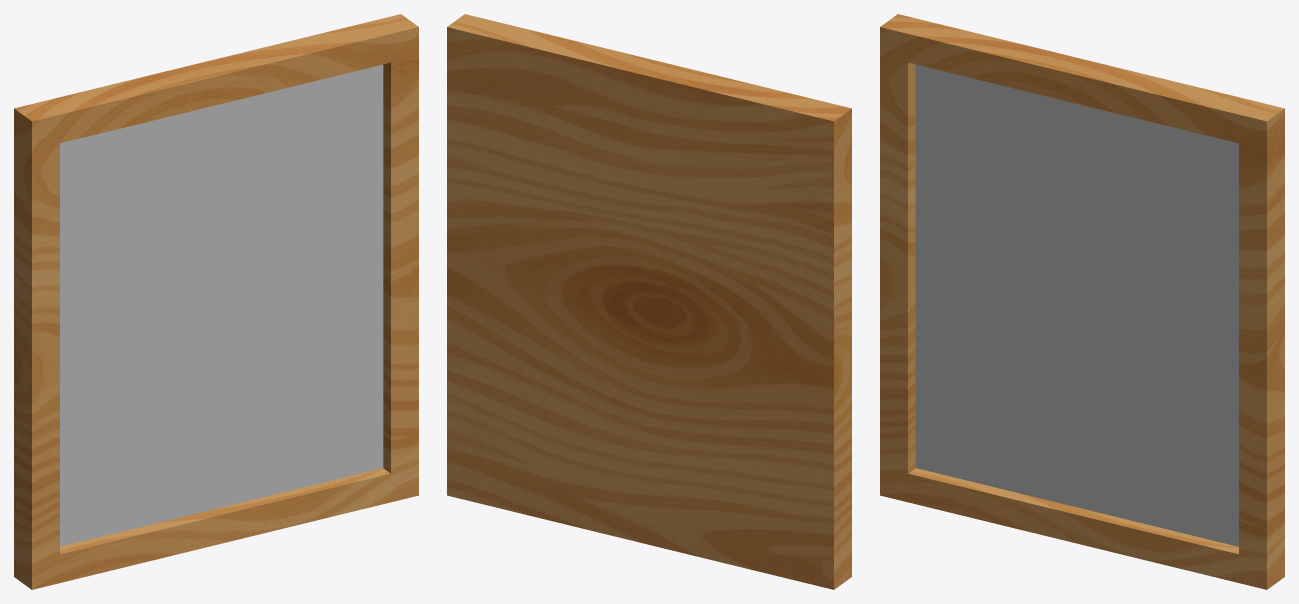
Rendered from Picture_Hang_7_Broken.fbx.
3 views of the same model, side by side, from view 1: azimuth 30°, elevation 25°; view 2: azimuth 150°, elevation 25°; view 3: azimuth 330°, elevation 25° (orthographic).
Parts seen in each view (by area): view 1: Picture_Hang_7_Complete, Picture_Hang_7_Broken; view 2: Picture_Hang_7_Broken; view 3: Picture_Hang_7_Complete, Picture_Hang_7_Broken.
Part boxes in pixels (x1,y1,x2,y2): Picture_Hang_7_Complete: (60, 64, 383, 546); Picture_Hang_7_Broken: (14, 14, 418, 589); Picture_Hang_7_Broken: (447, 14, 851, 589); Picture_Hang_7_Complete: (915, 64, 1238, 546); Picture_Hang_7_Broken: (880, 14, 1284, 589).
Size of the model in its own units: 62.82 by 72.66 by 5.02.
